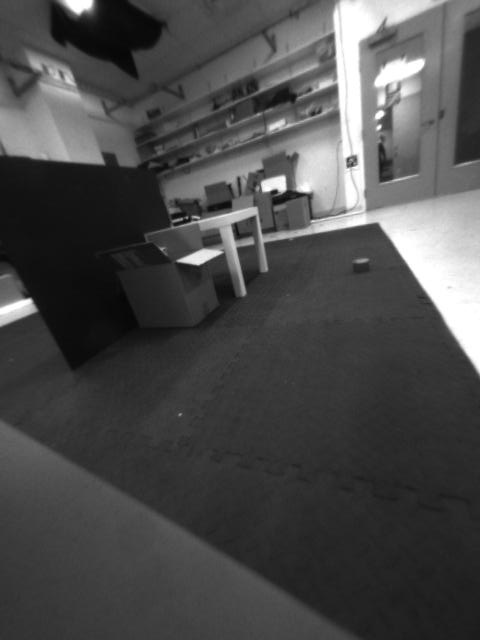dogtoy: (344, 251, 374, 276)
